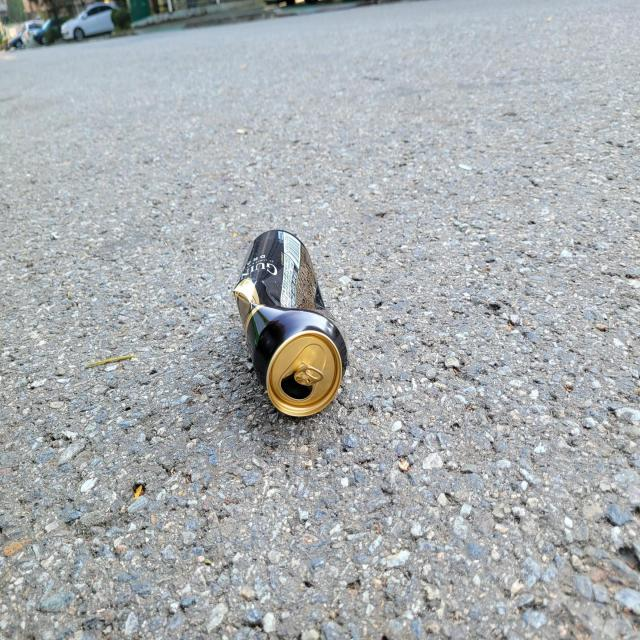can: (234, 229, 347, 417)
